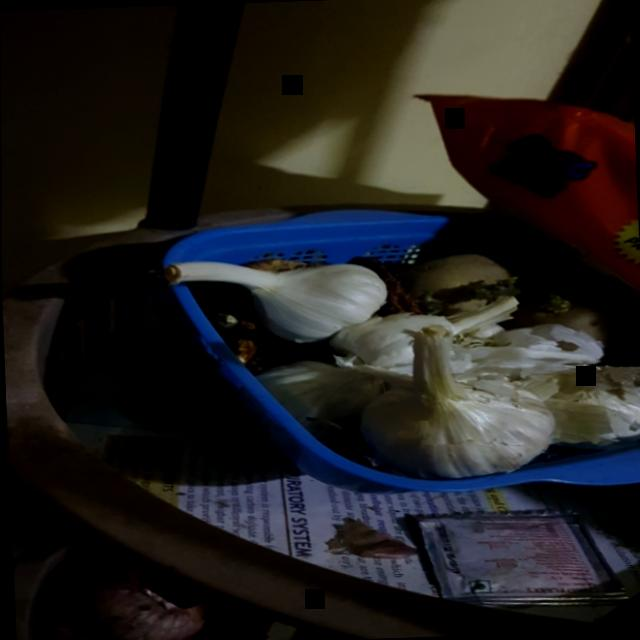garlic: (344, 312, 563, 489), (137, 230, 397, 347)
